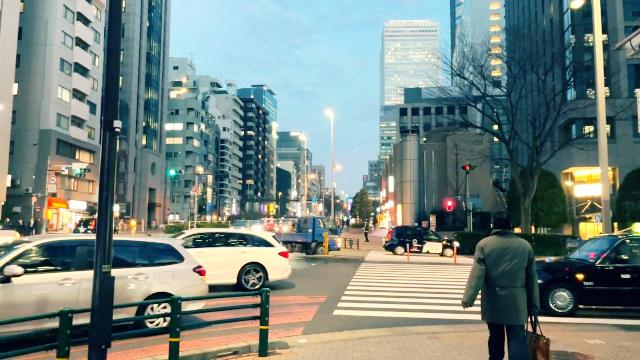berjalan: (456, 215, 556, 359)
